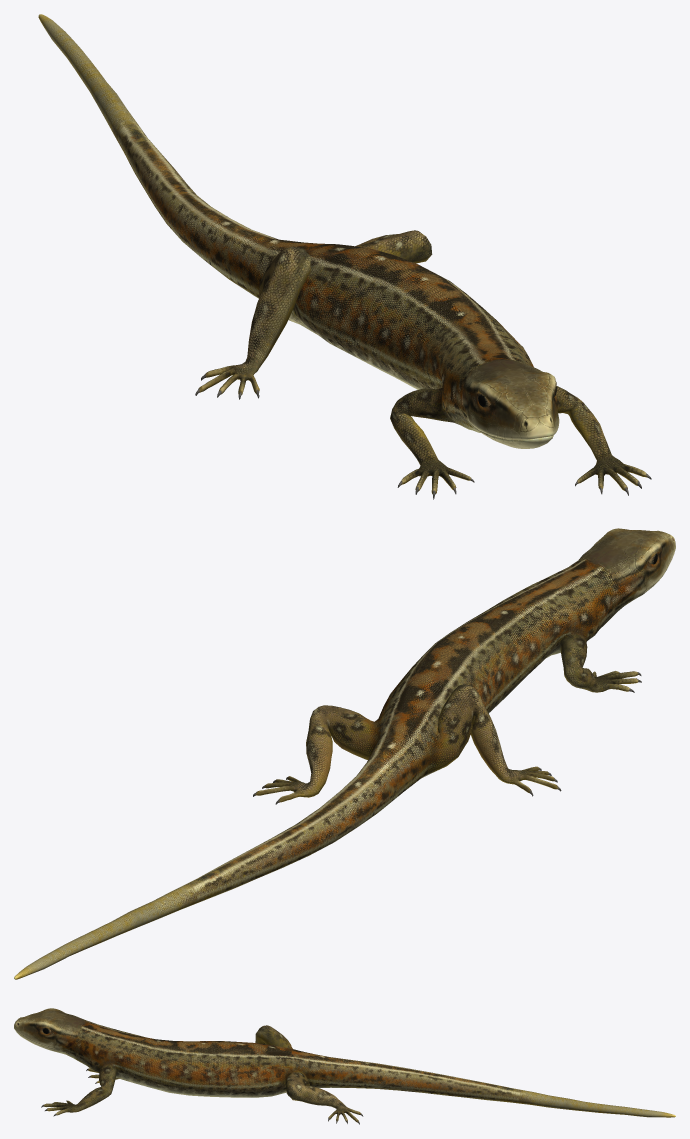
The model's file is Standing136.obj.
The picture shows the model from 3 angles, top to bottom: view 1: azimuth 30°, elevation 25°; view 2: azimuth 150°, elevation 25°; view 3: azimuth 270°, elevation 25°; orthographic projection. The views are drawn at different scales.
Visible parts, largest first — view 1: Lizard; view 2: Lizard; view 3: Lizard.
Part boxes in pixels (x1,y1,x2,y2): Lizard: [38, 14, 651, 499]; Lizard: [14, 528, 675, 979]; Lizard: [14, 1008, 675, 1124].
Bounding box in the file's own units: 25.34 × 12.04 × 103.
